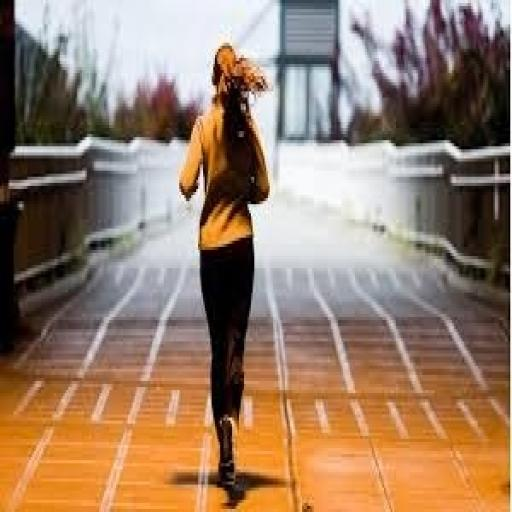running: (176, 40, 273, 502)
